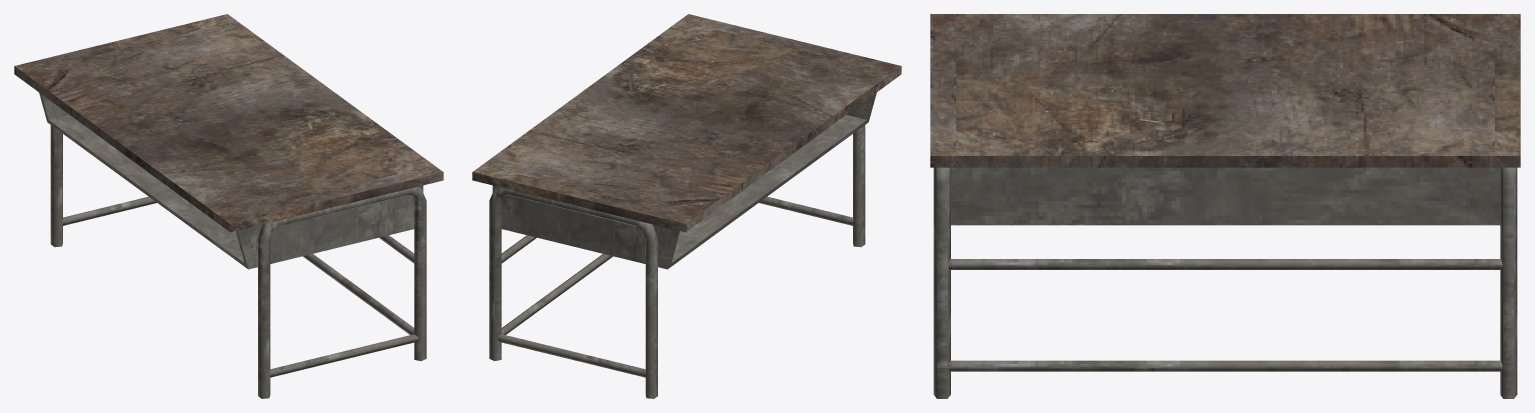
The model's file is _ClassTable_2.FBX.
3 views of the same model, side by side, from view 1: azimuth 30°, elevation 25°; view 2: azimuth 150°, elevation 25°; view 3: azimuth 270°, elevation 25° (orthographic). The views are drawn at different scales.
Visible parts, largest first — view 1: _ClassTable_2; view 2: _ClassTable_2; view 3: _ClassTable_2.
Boxes of the visible parts, box(x1,y1,x2,y2) form: _ClassTable_2: box(14, 14, 443, 398); _ClassTable_2: box(472, 14, 901, 398); _ClassTable_2: box(930, 14, 1520, 398).
Size of the model in its own units: 93.63 by 77.61 by 164.
2 materials, 2 textured.
